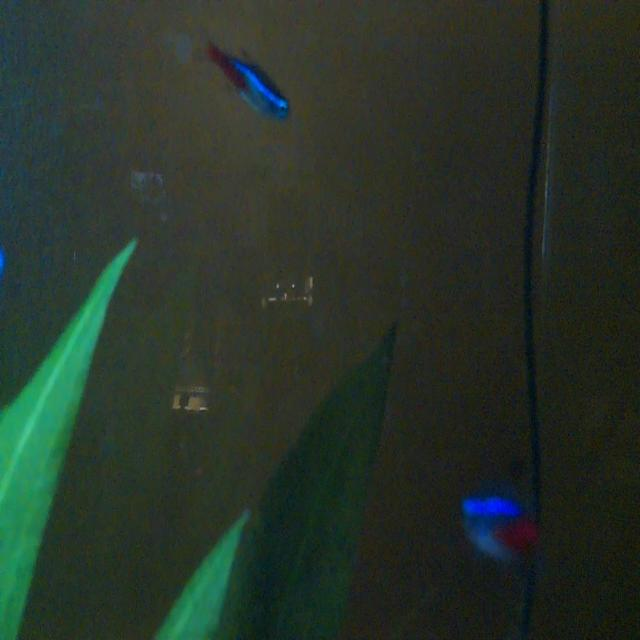fish: (202, 34, 304, 140), (452, 488, 546, 578)
